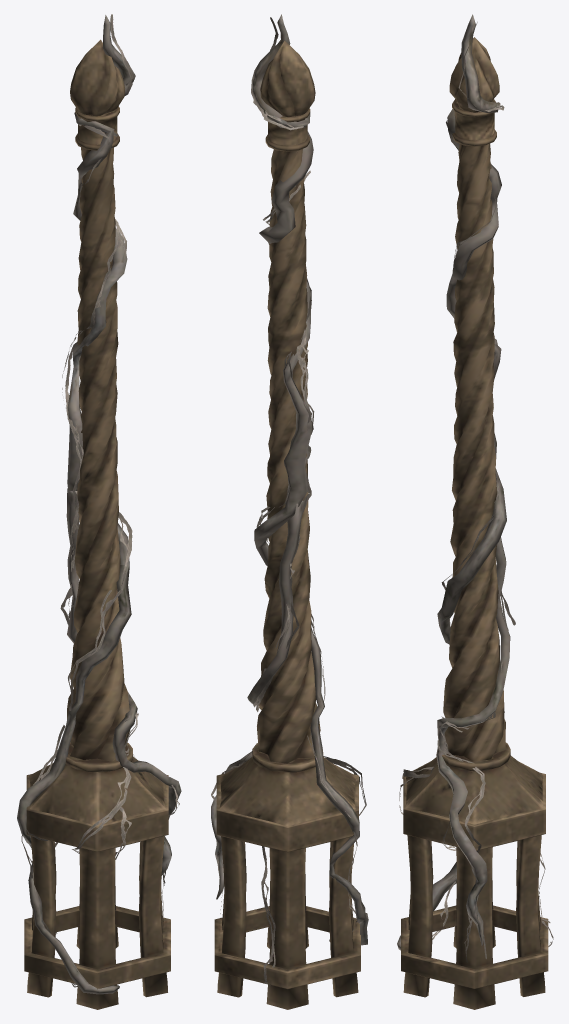
Rendered from weapon-wp_a_3008.glb.
3 views of the same model, side by side, from view 1: azimuth 30°, elevation 25°; view 2: azimuth 150°, elevation 25°; view 3: azimuth 270°, elevation 25° (orthographic).
Parts seen in each view (by area): view 1: wp_a_3008_mesh; view 2: wp_a_3008_mesh; view 3: wp_a_3008_mesh.
Part boxes in pixels (x1,y1,x2,y2): wp_a_3008_mesh: [17, 14, 181, 1009]; wp_a_3008_mesh: [211, 14, 368, 1009]; wp_a_3008_mesh: [397, 14, 553, 1009].
Bounding box in the file's own units: 0.1332 × 0.8027 × 0.1191.
Materials: 1 (1 with a texture image).
